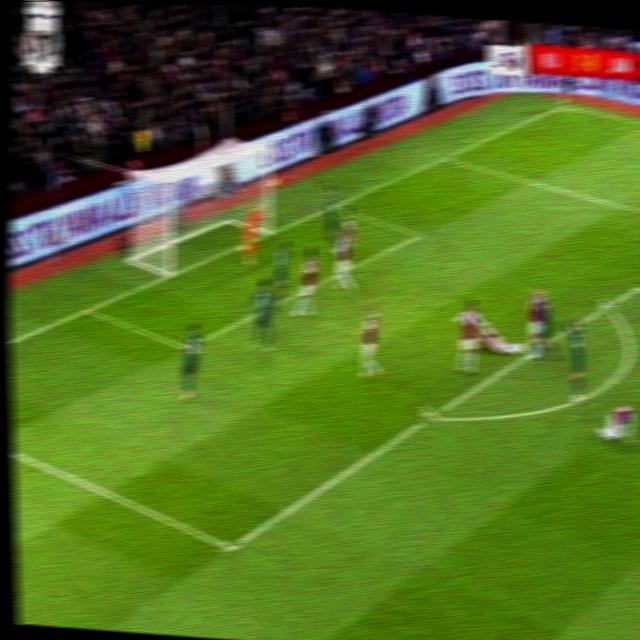bigarea_bottom_inner: (218, 532, 243, 564)
bigarea_top_outter: (437, 152, 453, 168)
bottom_arc_area_intersection: (419, 404, 443, 429)
corner: (555, 100, 575, 114)
smallarea_bottom_outter: (77, 299, 100, 322)
smallarea_top_inner: (409, 228, 425, 244)
top_arc_area_intersection: (596, 299, 616, 316)
